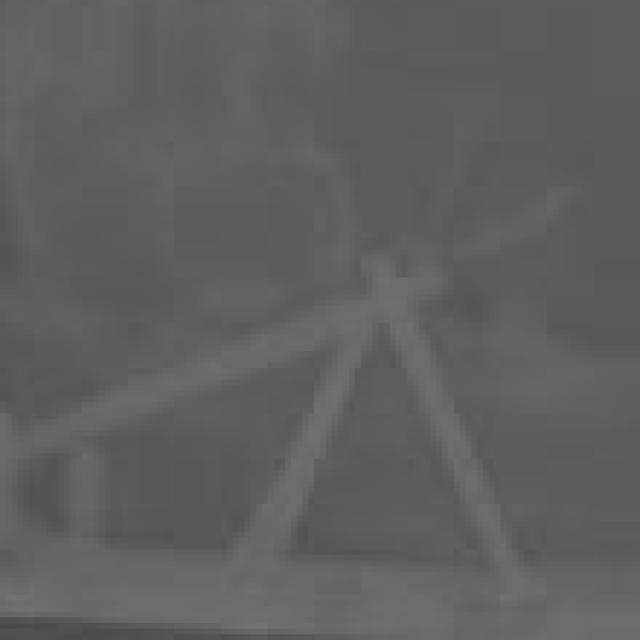fracture: (1, 1, 640, 640)
